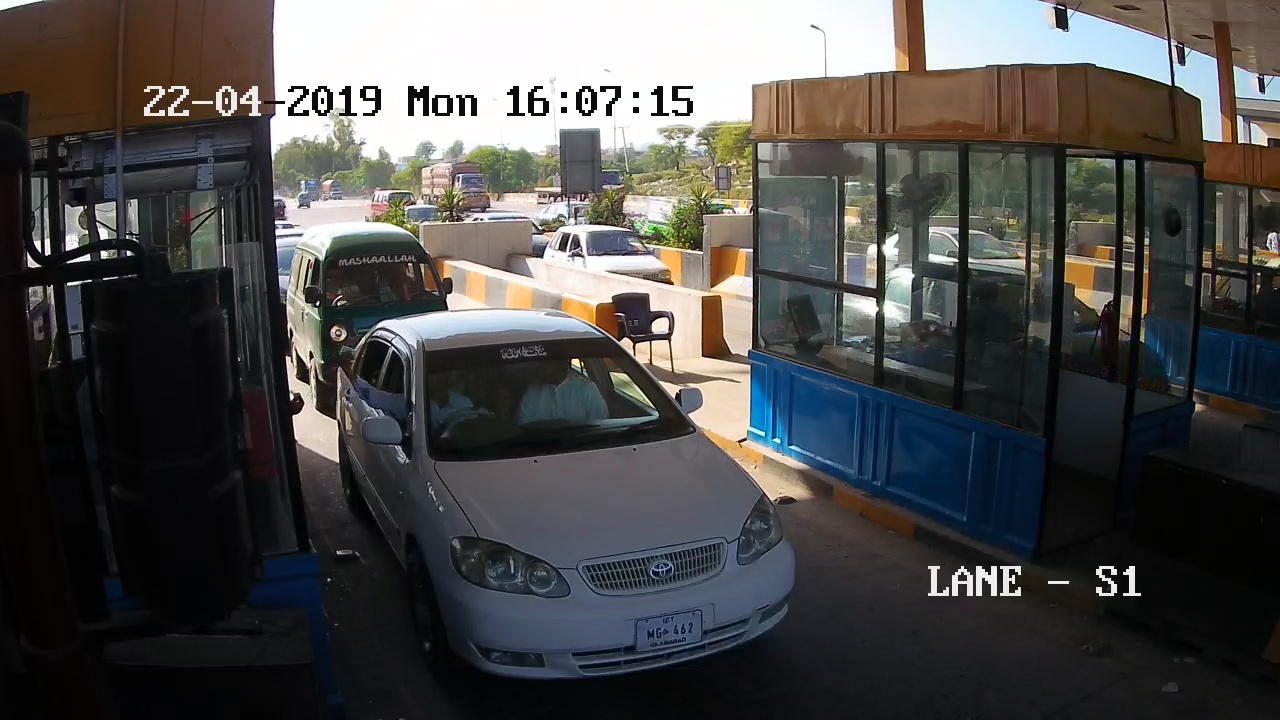Number Plate (Car): (635, 616, 699, 650)
